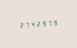four: (29, 20, 34, 28)
nine: (41, 19, 46, 27), (53, 18, 58, 26)
seven: (23, 21, 28, 28), (47, 19, 52, 26)
two: (17, 21, 22, 29), (35, 20, 40, 27)
